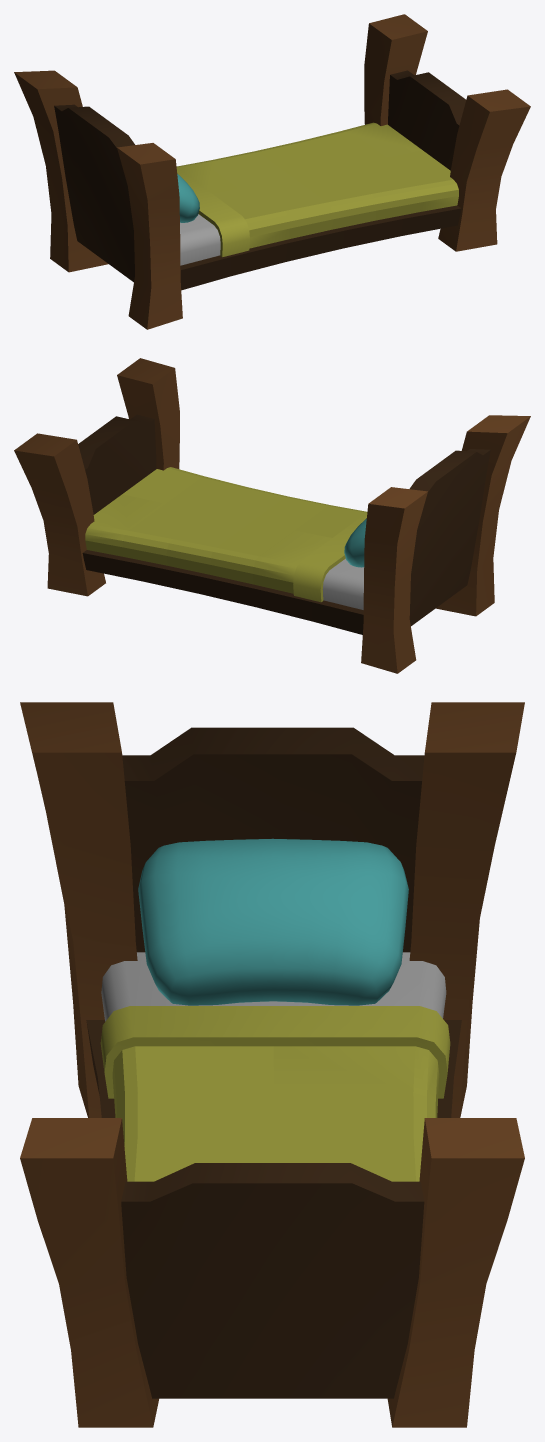
Rendered from Bed01.fbx.
The picture shows the model from 3 angles, top to bottom: view 1: azimuth 30°, elevation 25°; view 2: azimuth 150°, elevation 25°; view 3: azimuth 270°, elevation 25°; orthographic projection. The views are drawn at different scales.
Visible parts, largest first — view 1: down_low; view 2: down_low; view 3: down_low.
Boxes of the visible parts, left/top/right/bottom form: down_low: left=14, top=14, right=530, bottom=329; down_low: left=14, top=358, right=530, bottom=673; down_low: left=20, top=702, right=524, bottom=1427.
Size of the model in its own units: 482 by 270 by 214.
